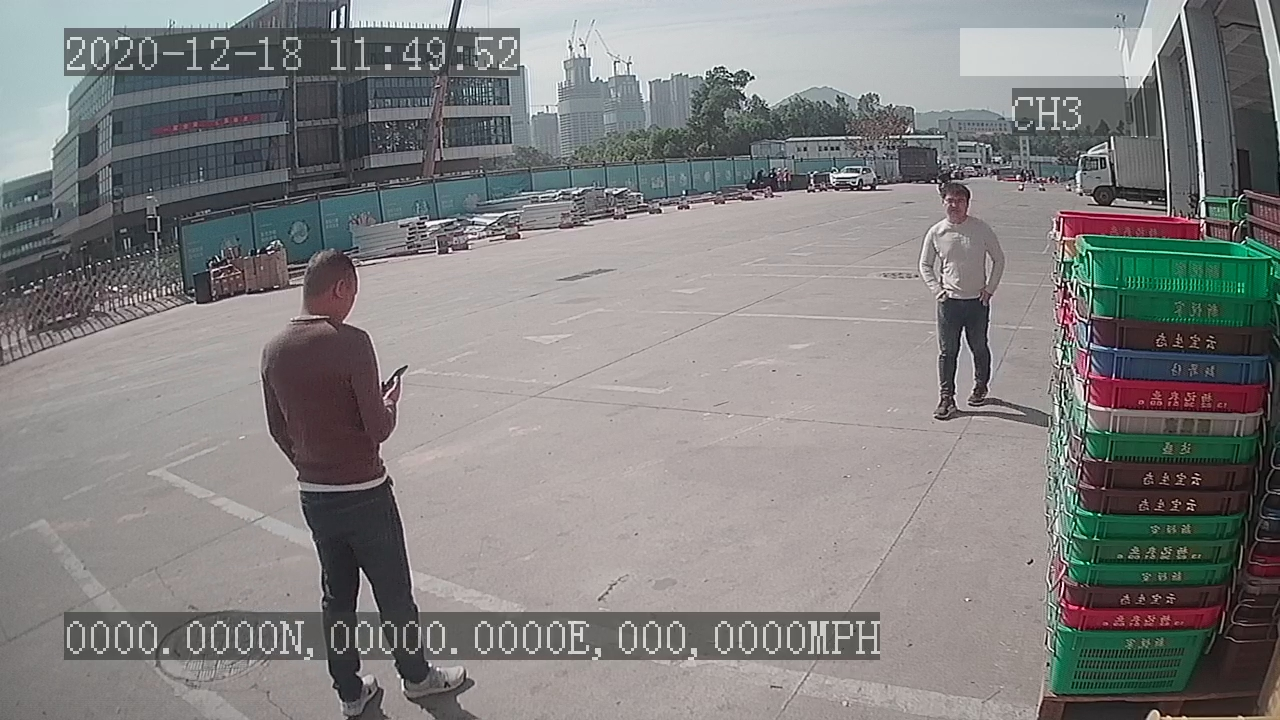person: (913, 179, 1009, 422)
